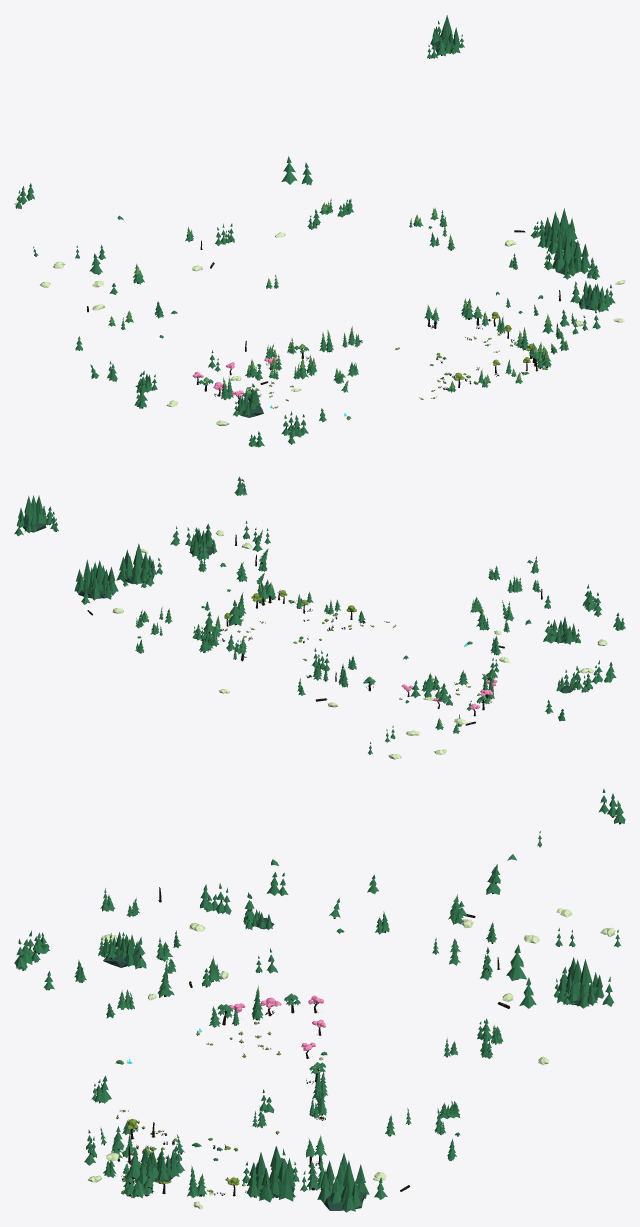
File: LOBBY_09_VEGETATION_dd376e.fbx
The picture shows the model from 3 angles, top to bottom: view 1: azimuth 30°, elevation 25°; view 2: azimuth 150°, elevation 25°; view 3: azimuth 270°, elevation 25°; orthographic projection. The views are drawn at different scales.
Parts seen in each view (by area): view 1: VEG_Leste_Norte__Leaf_Pine, VEG_Leste_Sul__Leaf_Pine, VEG_Vale_Oeste__Leaf_Pine, VEG_Vale_Leste__Leaf_Pine, VEG_Nordeste__Leaf_Pine, VEG_Norte_Leste__Leaf_Pine, VEG_Oeste_Sul__Leaf_Pine, VEG_Oeste_Norte__Leaf_Pine, VEG_Noroeste__Leaf_Pine; view 2: VEG_Leste_Norte__Leaf_Pine, VEG_Vale_Oeste__Leaf_Pine, VEG_Leste_Sul__Leaf_Pine, VEG_Vale_Leste__Leaf_Pine, VEG_Nordeste__Leaf_Pine, VEG_Norte_Leste__Leaf_Pine, VEG_Oeste_Sul__Leaf_Pine, VEG_Oeste_Norte__Leaf_Pine, VEG_Noroeste__Leaf_Pine, VEG_Norte_Oeste__Leaf_Pine, VEG_Vale_Leste__Leaf_Broad; view 3: VEG_Leste_Norte__Leaf_Pine, VEG_Vale_Oeste__Leaf_Pine, VEG_Leste_Sul__Leaf_Pine, VEG_Nordeste__Leaf_Pine, VEG_Vale_Leste__Leaf_Pine, VEG_Oeste_Norte__Leaf_Pine, VEG_Norte_Leste__Leaf_Pine, VEG_Oeste_Sul__Leaf_Pine, VEG_Noroeste__Leaf_Pine, VEG_Norte_Oeste__Leaf_Pine.
Boxes of the visible parts, bbox=[...] form: VEG_Leste_Norte__Leaf_Pine: bbox=[496, 208, 589, 313]; VEG_Leste_Sul__Leaf_Pine: bbox=[533, 257, 615, 354]; VEG_Vale_Oeste__Leaf_Pine: bbox=[198, 333, 350, 418]; VEG_Vale_Leste__Leaf_Pine: bbox=[342, 303, 551, 399]; VEG_Nordeste__Leaf_Pine: bbox=[427, 15, 464, 247]; VEG_Norte_Leste__Leaf_Pine: bbox=[281, 156, 455, 249]; VEG_Oeste_Sul__Leaf_Pine: bbox=[233, 383, 303, 447]; VEG_Oeste_Norte__Leaf_Pine: bbox=[75, 301, 177, 408]; VEG_Noroeste__Leaf_Pine: bbox=[15, 183, 142, 329]; VEG_Leste_Norte__Leaf_Pine: bbox=[74, 526, 230, 611]; VEG_Vale_Oeste__Leaf_Pine: bbox=[338, 556, 540, 703]; VEG_Leste_Sul__Leaf_Pine: bbox=[185, 476, 270, 583]; VEG_Vale_Leste__Leaf_Pine: bbox=[199, 580, 373, 680]; VEG_Nordeste__Leaf_Pine: bbox=[14, 495, 143, 652]; VEG_Norte_Leste__Leaf_Pine: bbox=[137, 600, 242, 652]; VEG_Oeste_Sul__Leaf_Pine: bbox=[543, 590, 625, 644]; VEG_Oeste_Norte__Leaf_Pine: bbox=[458, 619, 616, 721]; VEG_Noroeste__Leaf_Pine: bbox=[368, 674, 471, 754]; VEG_Norte_Oeste__Leaf_Pine: bbox=[297, 648, 426, 699]; VEG_Vale_Leste__Leaf_Broad: bbox=[202, 590, 395, 676]; VEG_Leste_Norte__Leaf_Pine: bbox=[192, 1089, 405, 1212]; VEG_Vale_Oeste__Leaf_Pine: bbox=[100, 890, 327, 1100]; VEG_Leste_Sul__Leaf_Pine: bbox=[84, 1075, 184, 1188]; VEG_Nordeste__Leaf_Pine: bbox=[434, 957, 614, 1160]; VEG_Vale_Leste__Leaf_Pine: bbox=[103, 1091, 326, 1198]; VEG_Oeste_Norte__Leaf_Pine: bbox=[200, 859, 389, 934]; VEG_Norte_Leste__Leaf_Pine: bbox=[385, 944, 536, 1136]; VEG_Oeste_Sul__Leaf_Pine: bbox=[14, 930, 146, 970]; VEG_Noroeste__Leaf_Pine: bbox=[432, 789, 625, 965]; VEG_Norte_Oeste__Leaf_Pine: bbox=[443, 854, 516, 1057].
Bounding box in the file's own units: 453 × 185 × 362.
Materials: 10 (3 with a texture image).
